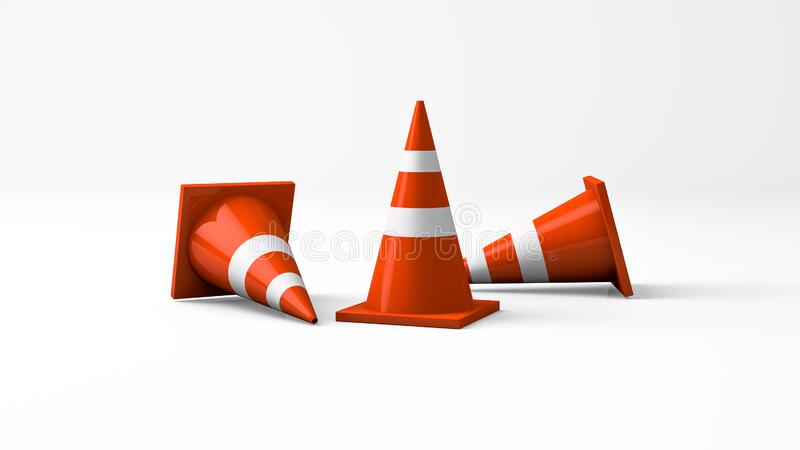cones: (338, 99, 502, 334), (158, 177, 325, 329), (460, 173, 636, 300)
